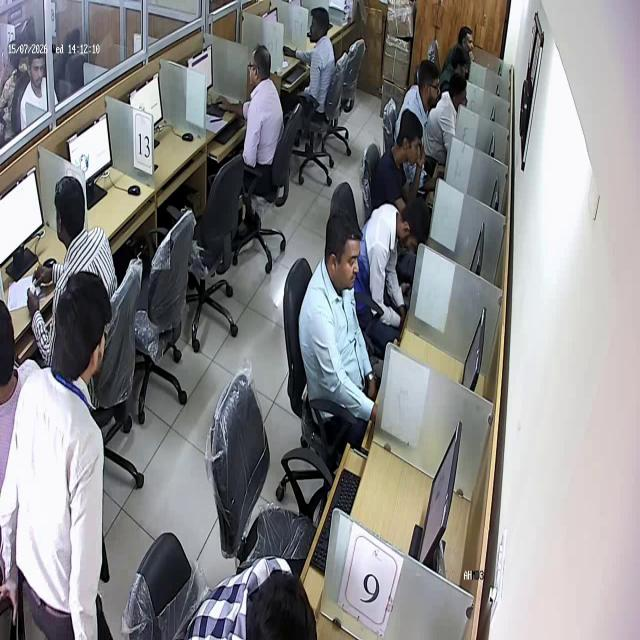paper-chit: (30, 280, 42, 297)
